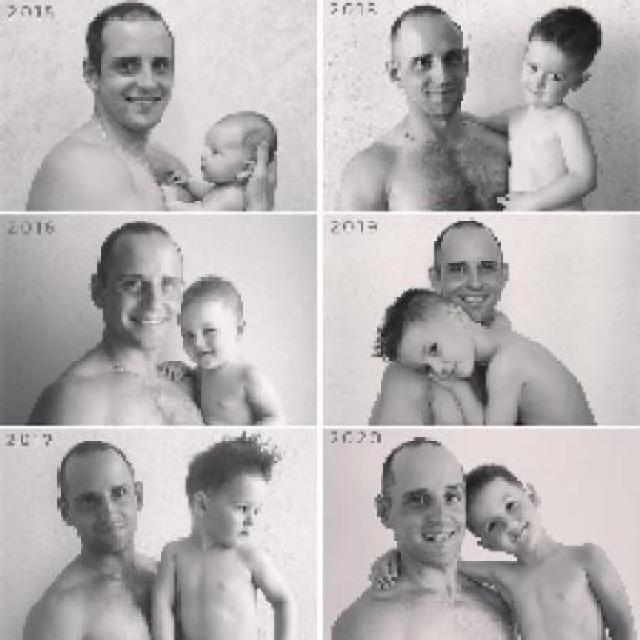child: (148, 432, 301, 638), (374, 284, 597, 424), (464, 462, 638, 638), (470, 4, 599, 207), (157, 274, 286, 423), (162, 108, 275, 212)
